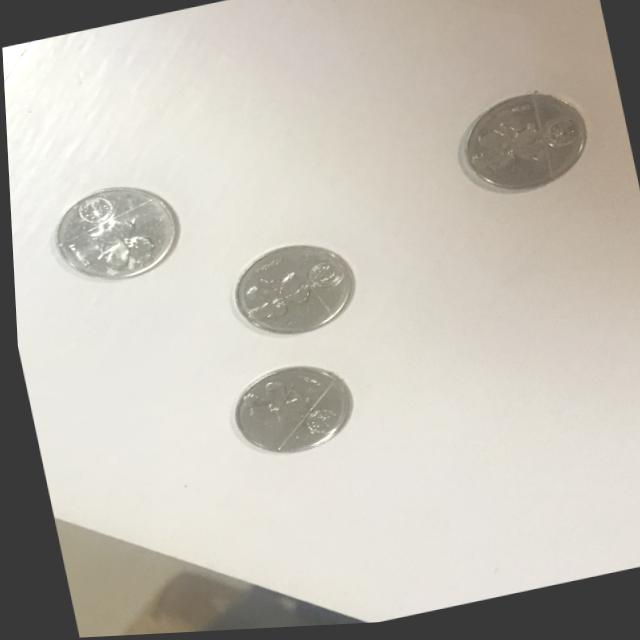25Cent_New_Back: (211, 253, 353, 337), (57, 190, 171, 278), (237, 366, 343, 459)
